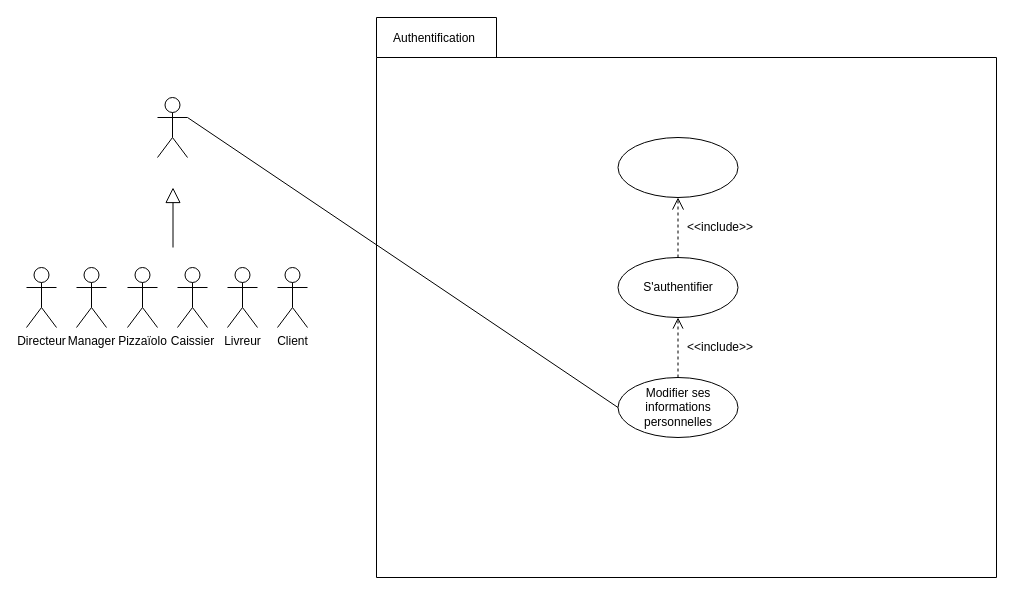
Some shapes in this 1014 by 595 pixel diagram are drawn without their labels. The shapes that lost their labels are listed below. From the top down, each one's centre as x and y in pixels, then its label:
At point 172,127: "Utilisateur".
At point 677,167: "S'inscrire".
